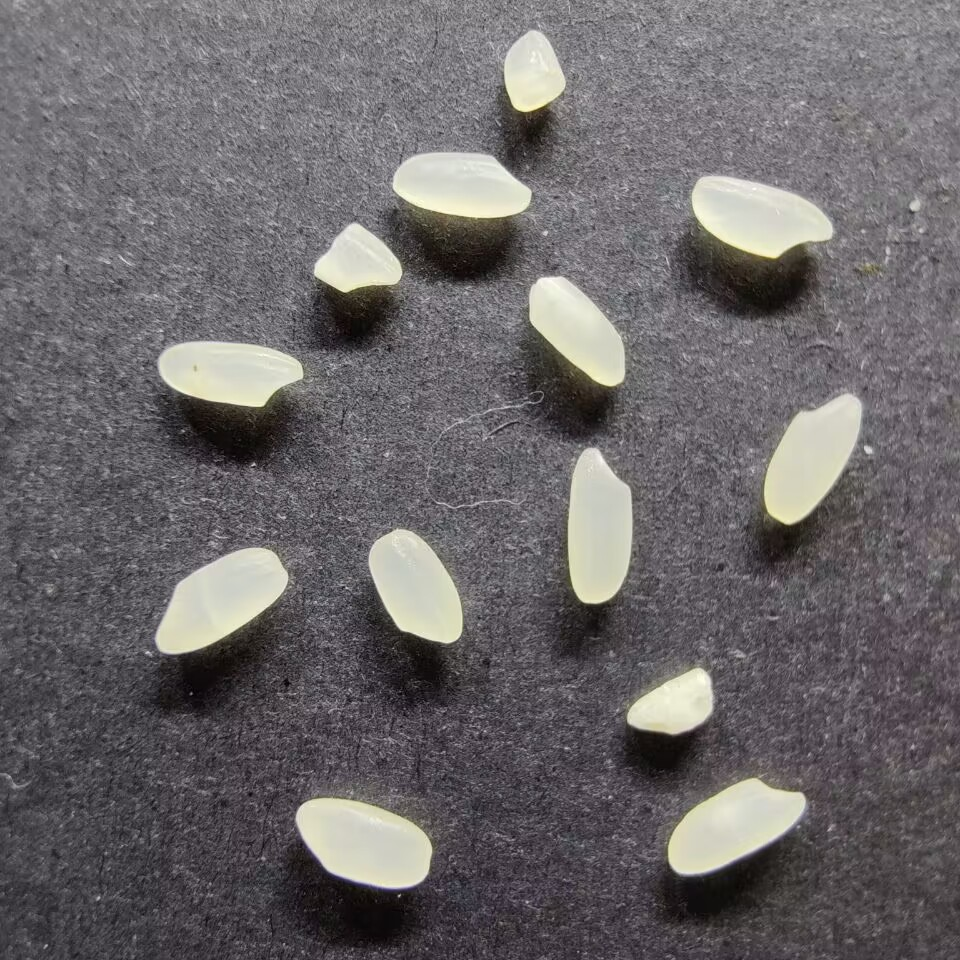broken: (311, 220, 401, 293), (625, 668, 714, 735), (502, 29, 565, 112)
rice: (154, 546, 287, 654), (667, 777, 806, 875), (763, 393, 863, 525), (295, 797, 431, 889), (691, 175, 833, 259), (367, 528, 464, 644), (527, 276, 626, 387), (565, 446, 633, 604), (391, 151, 532, 219), (157, 341, 303, 406)
